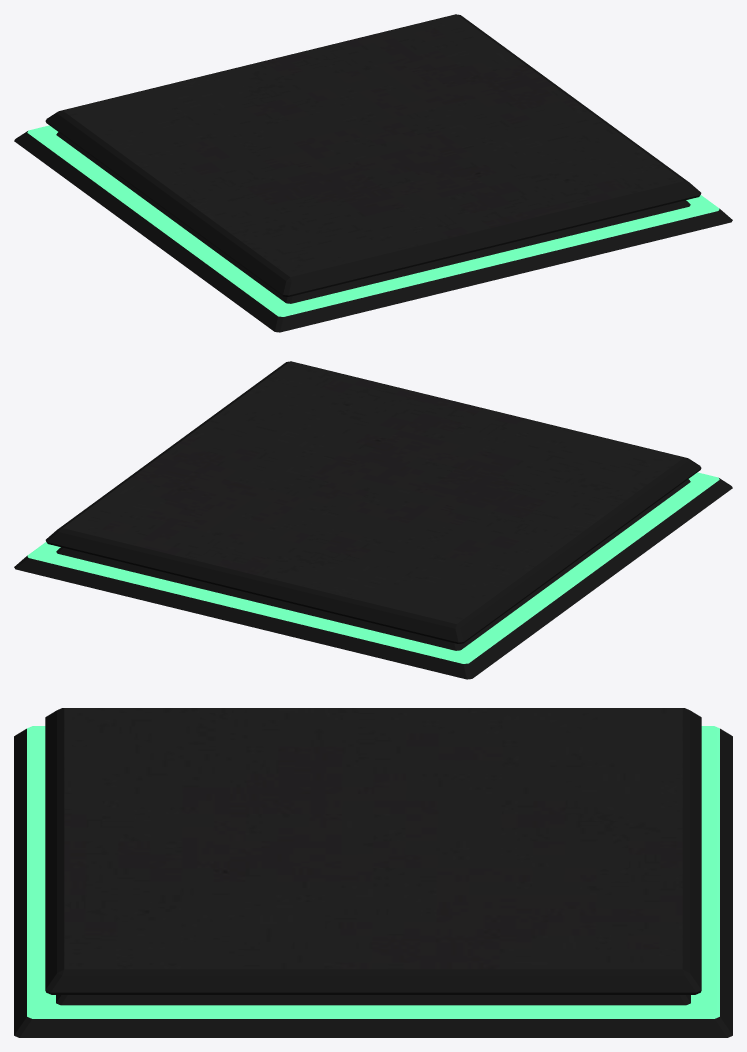
The model's file is jb2asquare2.glb.
The picture shows the model from 3 angles, top to bottom: view 1: azimuth 30°, elevation 25°; view 2: azimuth 150°, elevation 25°; view 3: azimuth 270°, elevation 25°; orthographic projection. The views are drawn at different scales.
Parts seen in each view (by area): view 1: base; view 2: base; view 3: base.
Boxes of the visible parts, x1=… form: base: x1=14, y1=14, x2=732, y2=332; base: x1=14, y1=361, x2=732, y2=679; base: x1=14, y1=708, x2=732, y2=1037.
Size of the model in its own units: 2 by 0.1452 by 2.
3 materials, 1 textured.
